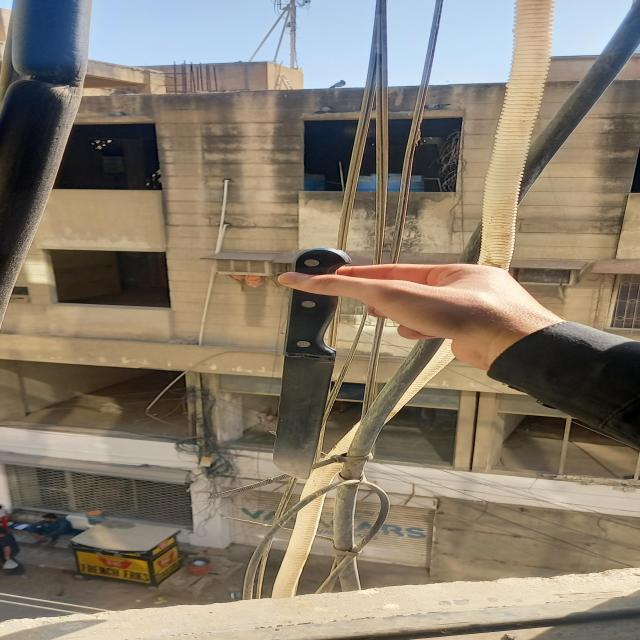Knife: (240, 247, 364, 477)
